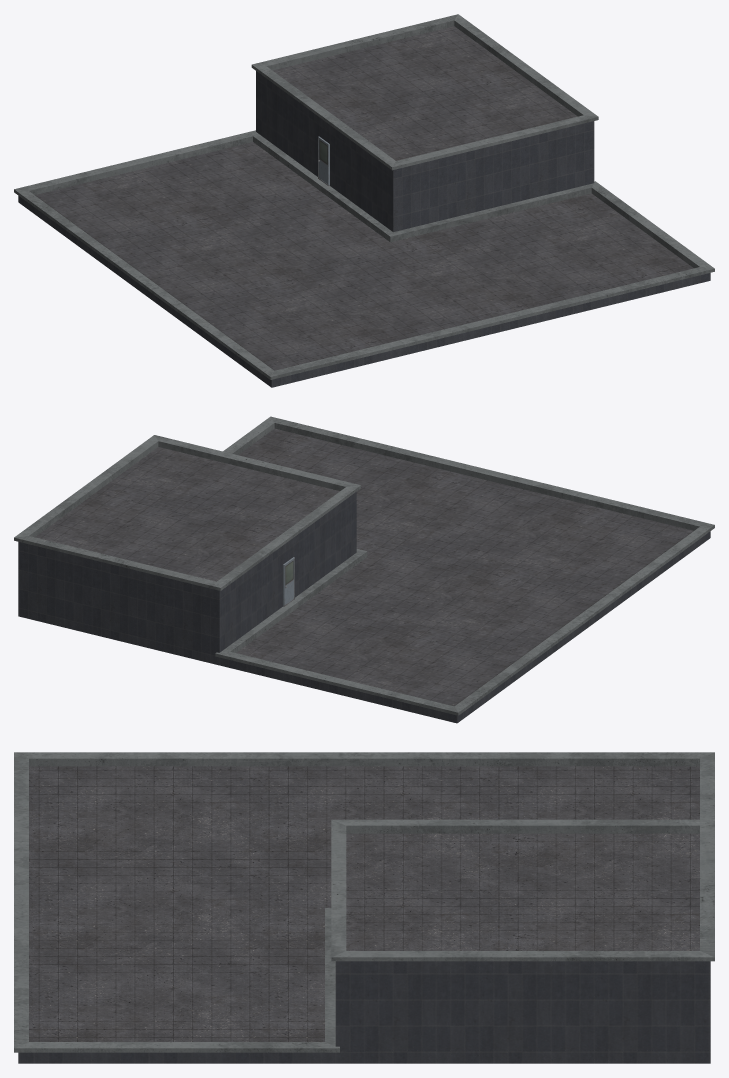
The model's file is jctBld24_A_top.fbx.
3 renders of one model, top to bottom at view 1: azimuth 30°, elevation 25°; view 2: azimuth 150°, elevation 25°; view 3: azimuth 270°, elevation 25°, orthographic. The views are drawn at different scales.
Parts seen in each view (by area): view 1: jctBld24_A_top; view 2: jctBld24_A_top; view 3: jctBld24_A_top.
Part boxes in pixels (x1,y1,x2,y2): jctBld24_A_top: [14, 14, 714, 387]; jctBld24_A_top: [14, 416, 714, 723]; jctBld24_A_top: [14, 752, 714, 1063].
Size of the model in its own units: 2440 by 416 by 2440.
